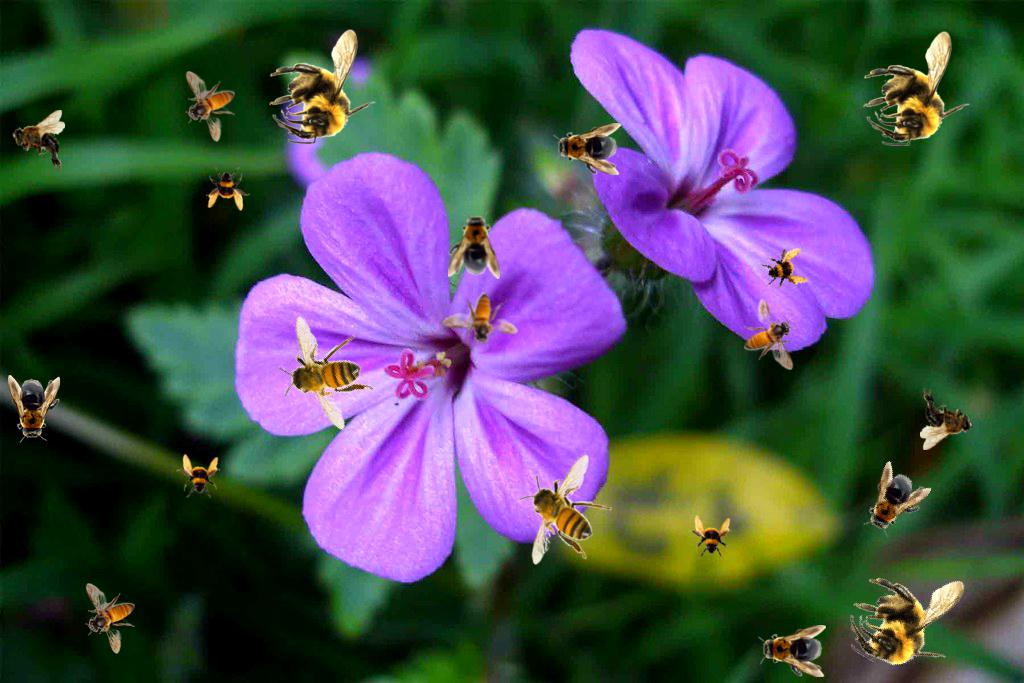Bee: (833, 539, 984, 683), (250, 297, 397, 443), (863, 31, 970, 146), (269, 29, 376, 144), (518, 454, 612, 565), (440, 281, 528, 360), (853, 460, 933, 546), (744, 299, 794, 370), (185, 71, 235, 142), (85, 583, 135, 654), (553, 123, 621, 175), (758, 625, 826, 677), (8, 375, 60, 443), (448, 211, 500, 279), (12, 110, 65, 172), (920, 388, 973, 450), (756, 240, 812, 296), (176, 454, 220, 498), (206, 167, 250, 211), (688, 515, 732, 559)
